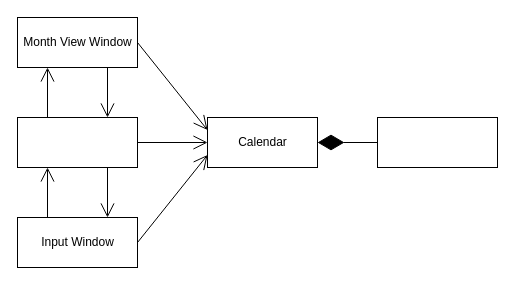
This 515x285 diagram has some shape labels left out. The shapes that lost their labels are listed below. From the top down, each one's centre as x and y in pixels, then its label:
(x=77, y=142): Day View Window
(x=437, y=142): Daily Water Usage Report
